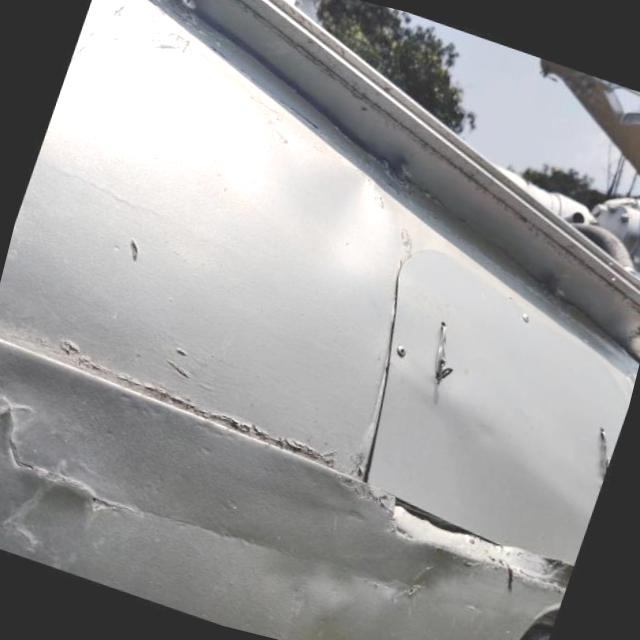dent: (263, 129, 427, 317), (364, 492, 574, 596)
